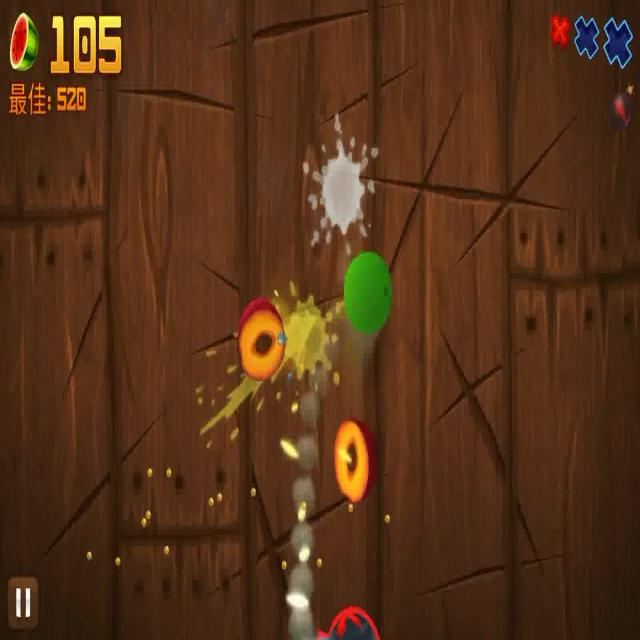bomb: (312, 595, 388, 640)
fruit: (342, 256, 400, 346), (236, 294, 292, 384), (338, 409, 367, 501)
